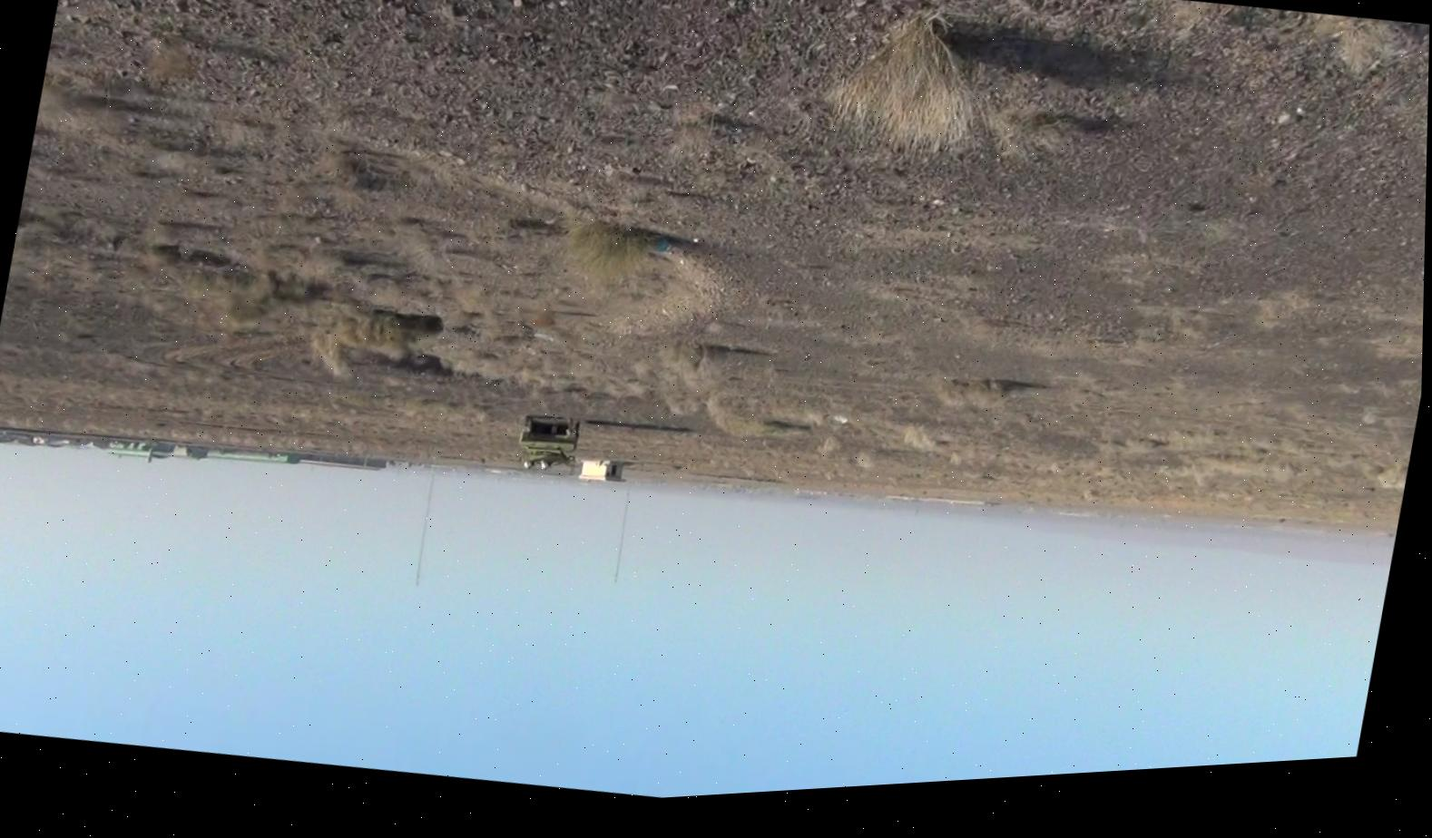armored_car: (510, 406, 584, 480)
